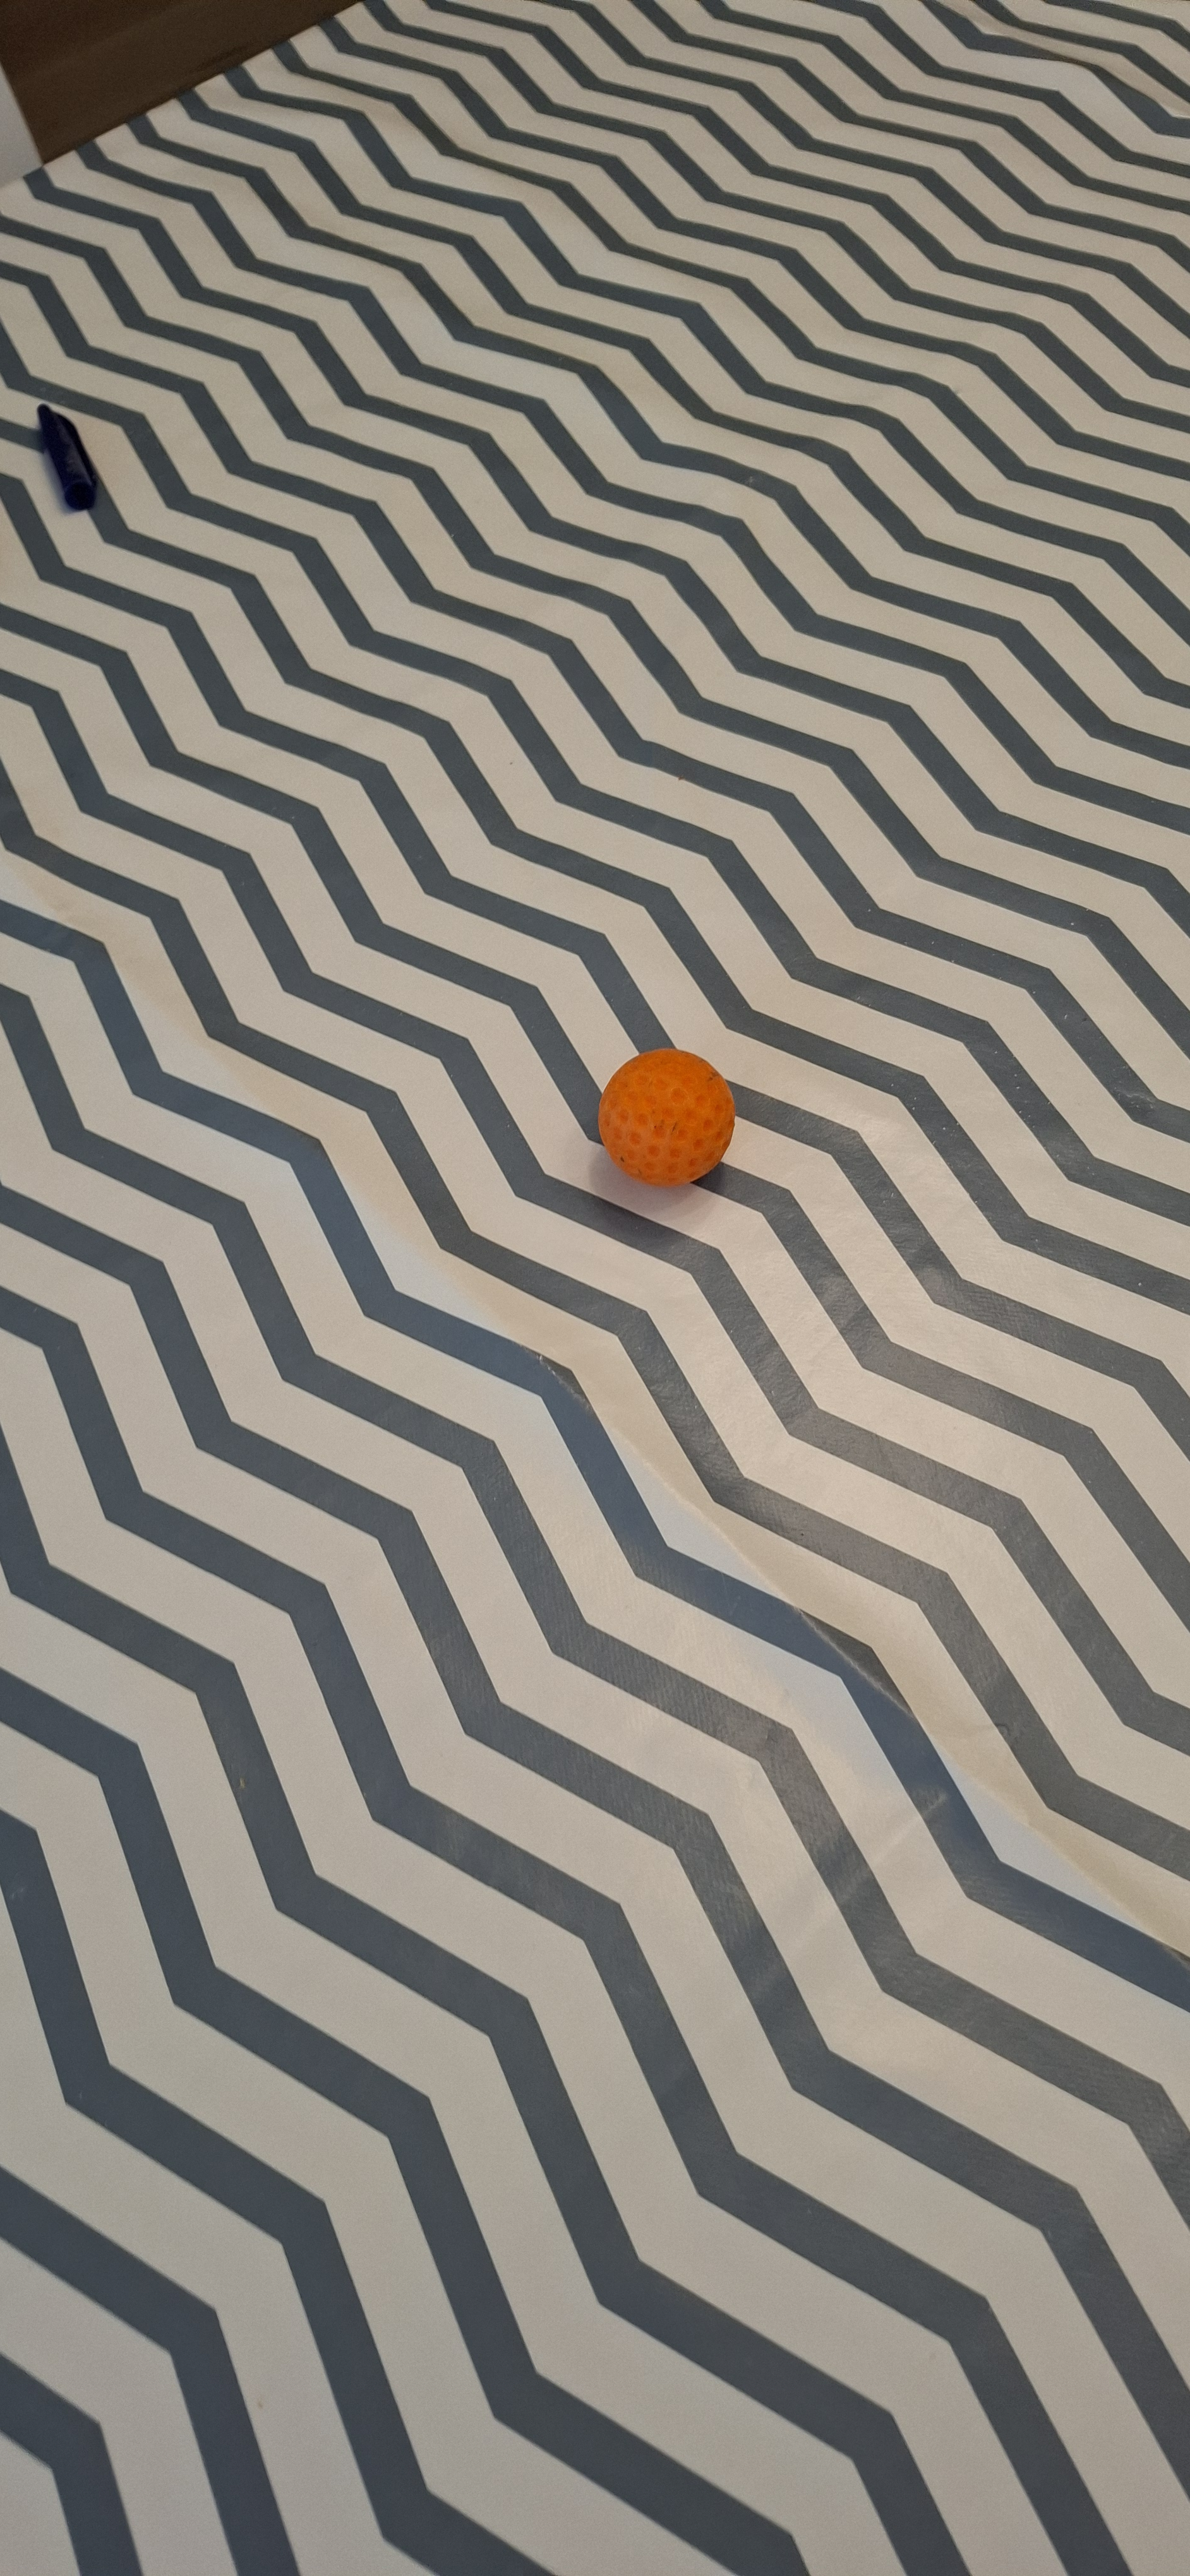ball: (485, 981, 547, 1281)
